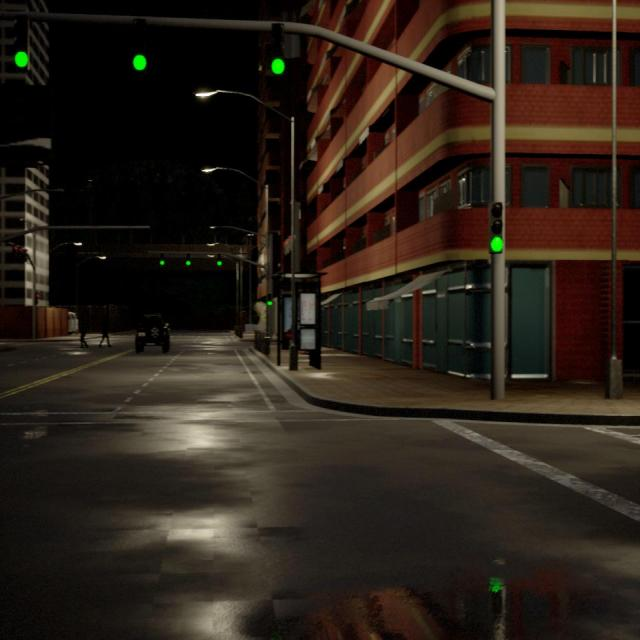Pedestrian: (78, 316, 88, 348), (99, 317, 110, 346)
Vehicle: (135, 314, 169, 352)
traffic_light: (130, 19, 149, 78), (11, 14, 28, 73), (269, 23, 285, 80), (488, 202, 503, 254), (12, 245, 18, 263), (186, 252, 192, 266), (216, 253, 222, 267), (159, 253, 165, 266), (34, 293, 40, 305), (18, 247, 22, 263), (268, 294, 272, 308), (23, 250, 27, 263)
